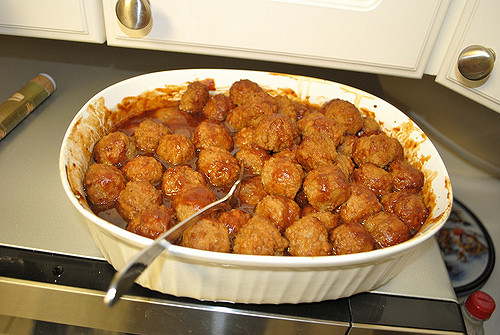meatballs: (86, 83, 436, 262)
